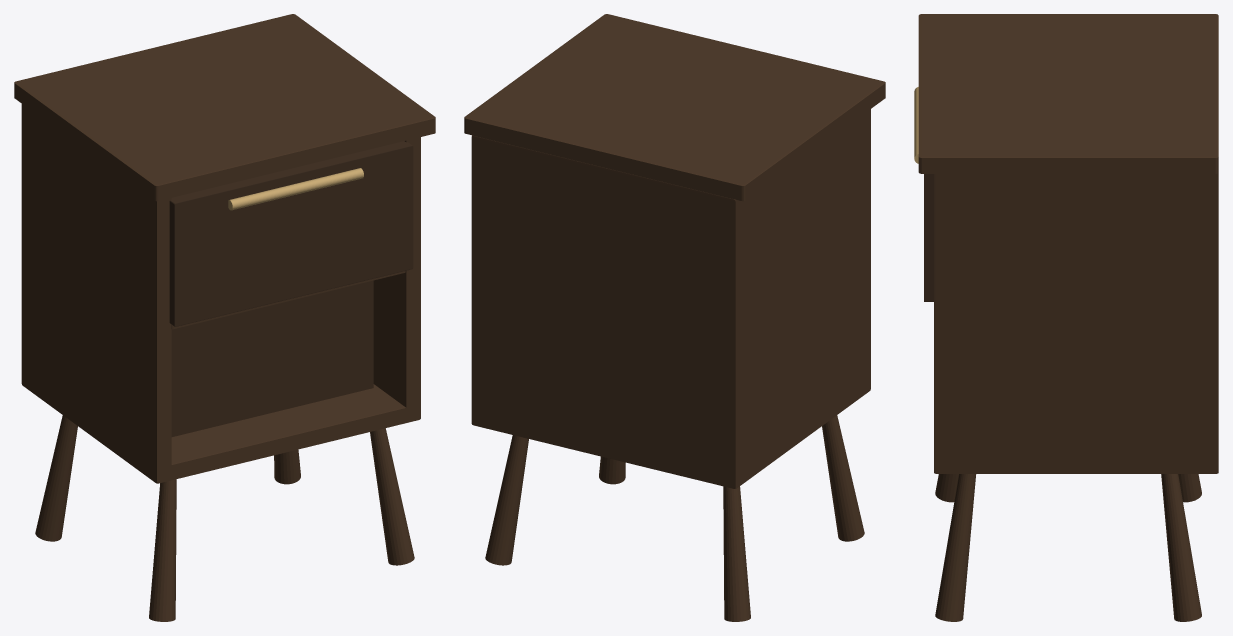
The model's file is walnut_nightstand_candidate.glb.
3 views of the same model, side by side, from view 1: azimuth 30°, elevation 25°; view 2: azimuth 150°, elevation 25°; view 3: azimuth 270°, elevation 25° (orthographic). The views are drawn at different scales.
Parts seen in each view (by area): view 1: Cube, Cube.001, Cube.006, Cube.007, Cube.004, Cube.002, Cone, Cone.001, Cone.002, Cube.003, Cylinder, Cone.003 (+1 smaller); view 2: Cube.003, Cube, Cube.001, Cube.004, Cube.002, Cone.002, Cone.003, Cone, Cone.001; view 3: Cube.002, Cube, Cube.003, Cube.004, Cone.001, Cone.003, Cube.006, Cone, Cone.002.
Boxes of the visible parts, x1=… form: Cube: x1=14, y1=14, x2=435, y2=201; Cube.001: x1=21, y1=110, x2=171, y2=483; Cube.006: x1=169, y1=141, x2=413, y2=326; Cube.007: x1=171, y1=280, x2=373, y2=436; Cube.004: x1=22, y1=373, x2=420, y2=483; Cube.002: x1=373, y1=137, x2=420, y2=421; Cone: x1=149, y1=479, x2=176, y2=621; Cone.001: x1=370, y1=428, x2=414, y2=565; Cone.002: x1=35, y1=415, x2=77, y2=541; Cube.003: x1=21, y1=104, x2=29, y2=387; Cylinder: x1=228, y1=168, x2=363, y2=210; Cone.003: x1=274, y1=449, x2=300, y2=484; Cube.003: x1=472, y1=135, x2=743, y2=488; Cube: x1=464, y1=14, x2=885, y2=201; Cube.001: x1=721, y1=109, x2=870, y2=488; Cube.004: x1=473, y1=376, x2=870, y2=488; Cube.002: x1=471, y1=135, x2=486, y2=424; Cone.002: x1=723, y1=486, x2=750, y2=621; Cone.003: x1=485, y1=435, x2=528, y2=565; Cone: x1=822, y1=415, x2=864, y2=541; Cone.001: x1=599, y1=456, x2=625, y2=484; Cube.002: x1=934, y1=173, x2=1218, y2=473; Cube: x1=918, y1=14, x2=1218, y2=173; Cube.003: x1=1200, y1=173, x2=1218, y2=472; Cube.004: x1=934, y1=457, x2=1216, y2=473; Cone.001: x1=935, y1=474, x2=976, y2=621; Cone.003: x1=1161, y1=474, x2=1201, y2=621; Cube.006: x1=924, y1=174, x2=933, y2=301; Cone: x1=935, y1=474, x2=958, y2=502; Cone.002: x1=1178, y1=474, x2=1201, y2=502.
Size of the model in its own units: 0.4054 by 0.6201 by 0.3618.
